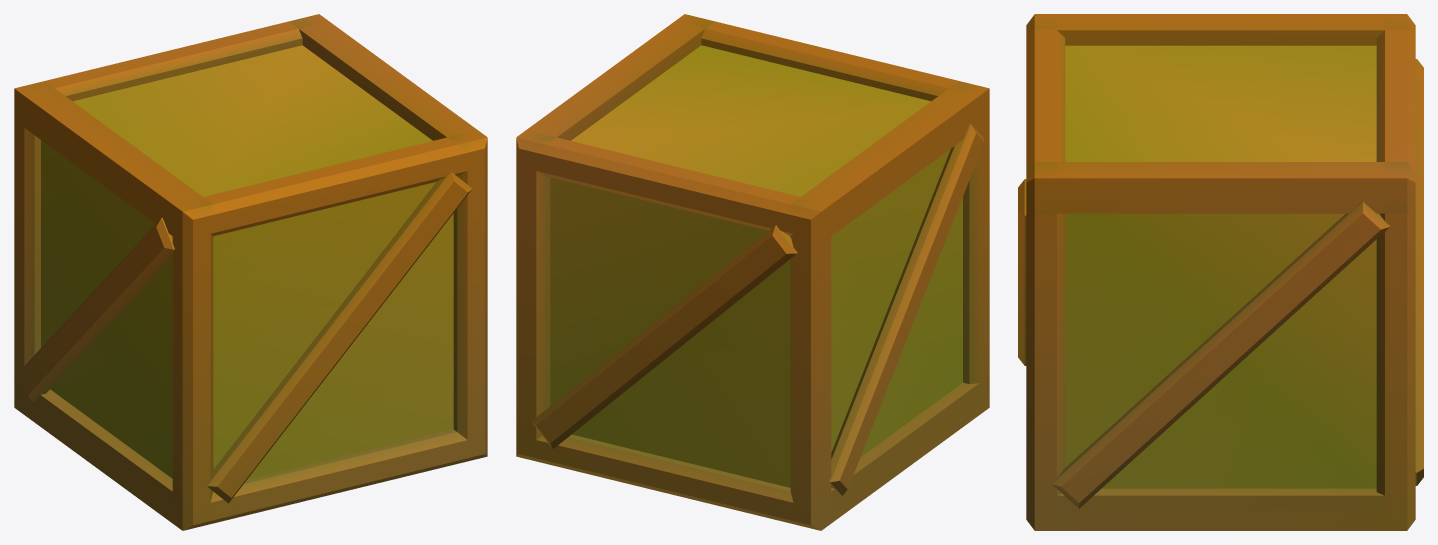
File: Prop_Crate.fbx
3 views of the same model, side by side, from view 1: azimuth 30°, elevation 25°; view 2: azimuth 150°, elevation 25°; view 3: azimuth 270°, elevation 25° (orthographic). The views are drawn at different scales.
Parts seen in each view (by area): view 1: Prop_Crate; view 2: Prop_Crate; view 3: Prop_Crate.
Part boxes in pixels (box(x1,y1,x2,y2)): Prop_Crate: box(14, 14, 487, 530); Prop_Crate: box(516, 14, 989, 530); Prop_Crate: box(1018, 14, 1423, 530).
Bounding box in the file's own units: 0.73 × 0.7 × 0.73.
